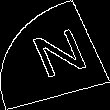N_S: (21, 24, 89, 86)
